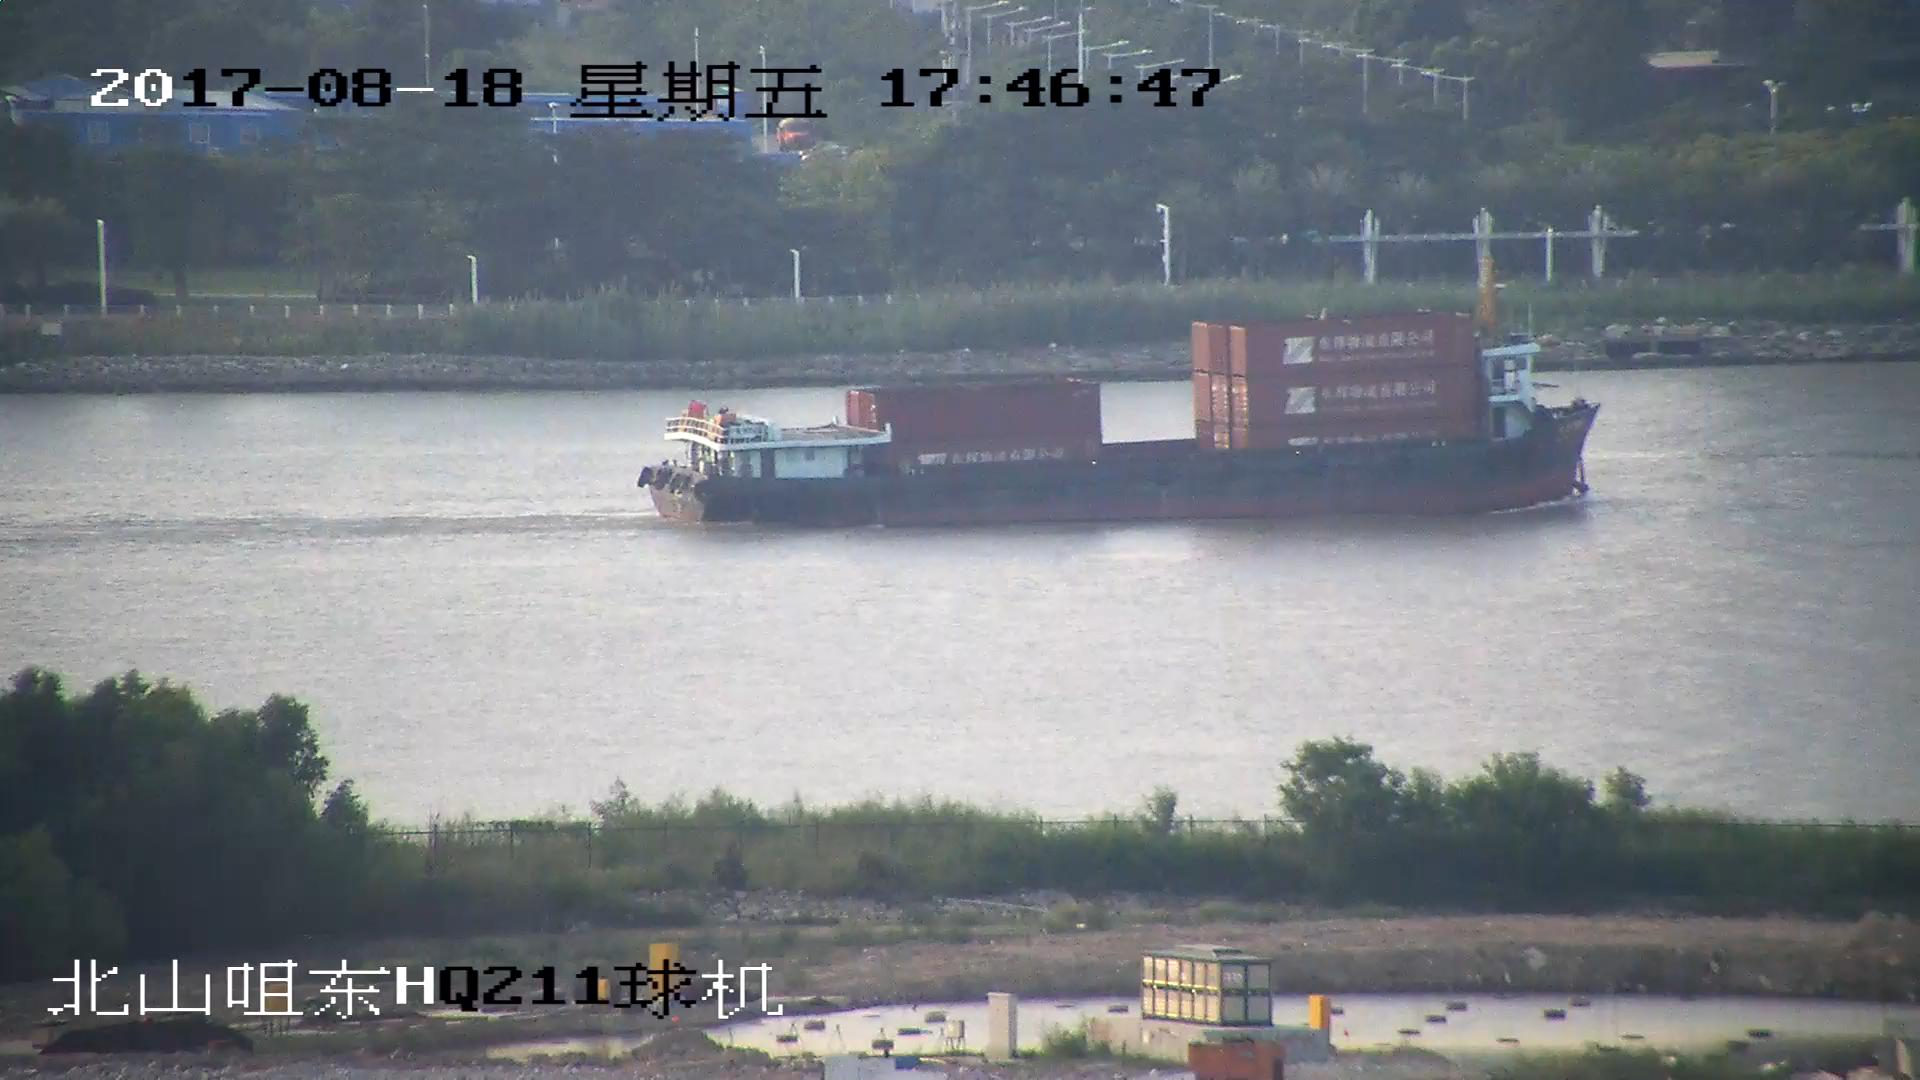container ship: (635, 268, 1599, 527)
